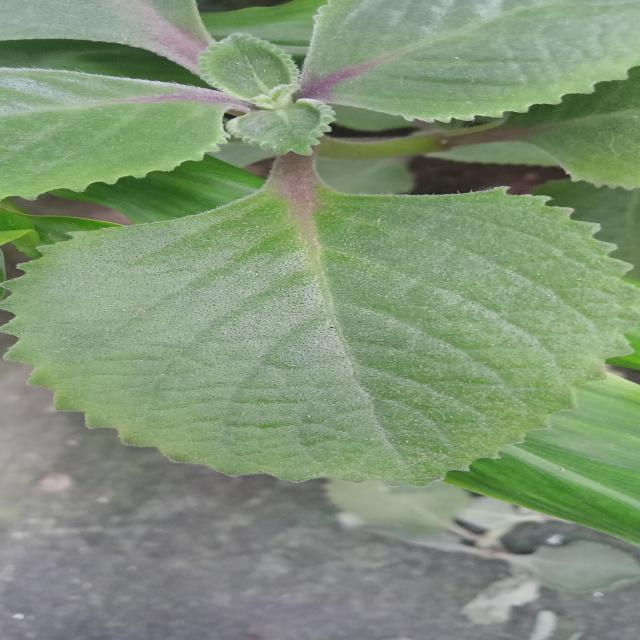Oregano: (11, 168, 640, 514)
